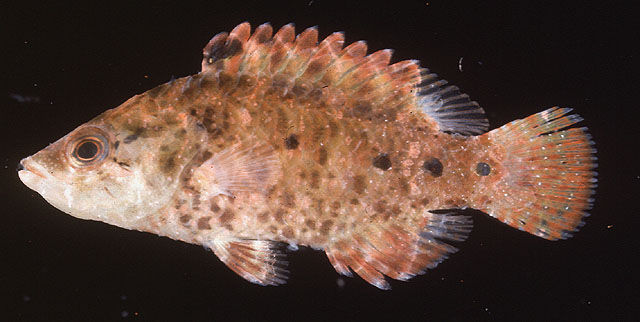fish: (19, 23, 597, 290)
